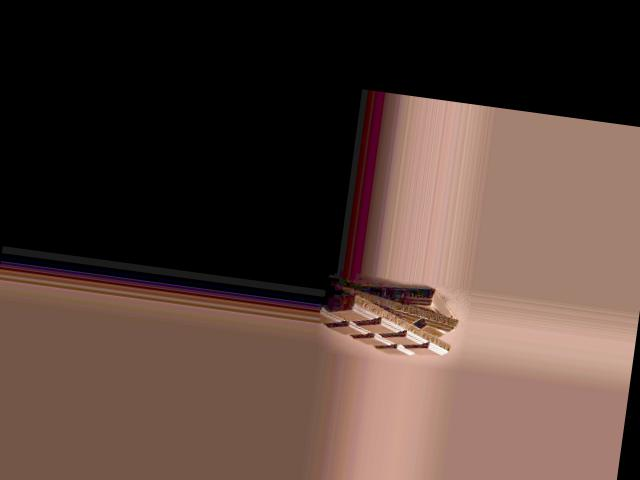chocolate: (319, 283, 460, 361)
